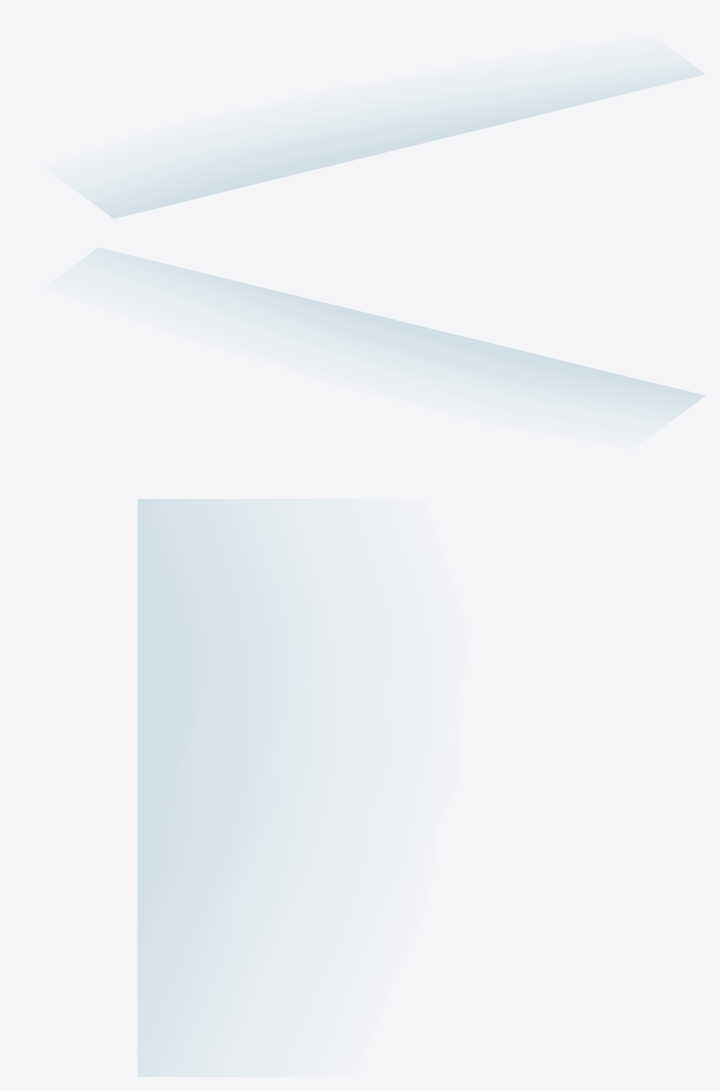
The picture shows the model from 3 angles, top to bottom: view 1: azimuth 30°, elevation 25°; view 2: azimuth 150°, elevation 25°; view 3: azimuth 270°, elevation 25°; orthographic projection. The views are drawn at different scales.
Visible parts, largest first — view 1: city; view 2: city; view 3: city.
Part boxes in pixels (left/top/right/bottom): city: left=84, top=64, right=703, bottom=218; city: left=85, top=248, right=704, bottom=418; city: left=138, top=499, right=304, bottom=1076.
Size of the model in its own units: 500 by 0 by 163.
